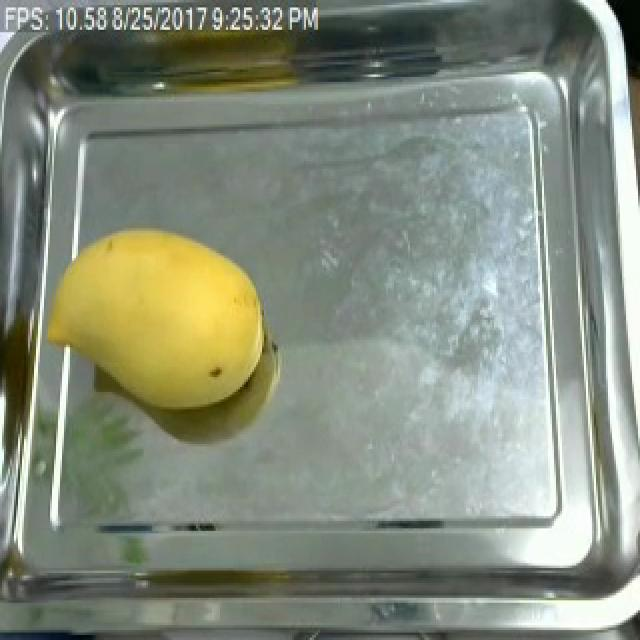fruit: (42, 211, 280, 424)
